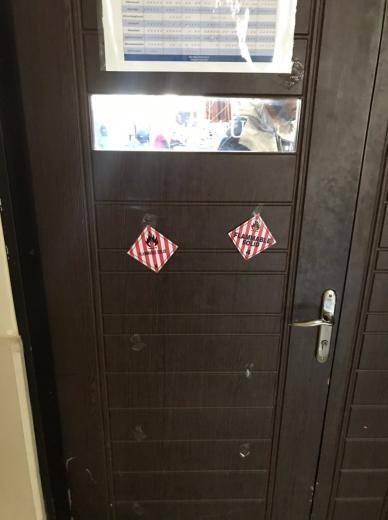flammable-solid: (128, 224, 178, 274), (228, 214, 276, 262)
